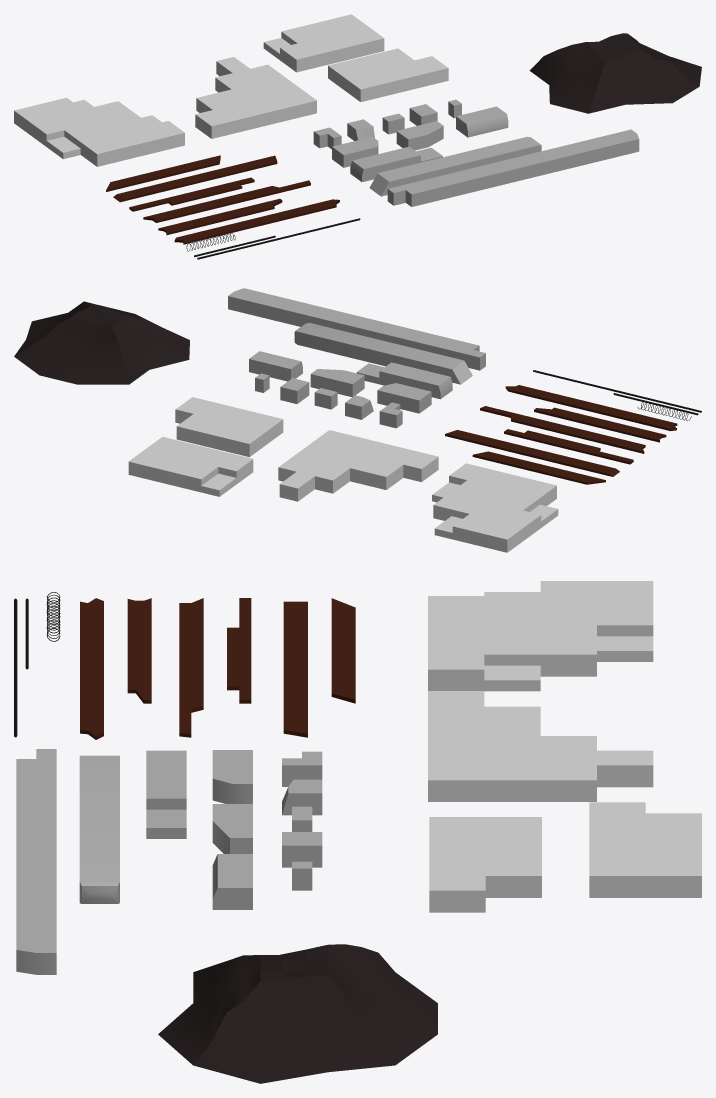
File: Rubble.fbx
3 renders of one model, top to bottom at view 1: azimuth 30°, elevation 25°; view 2: azimuth 150°, elevation 25°; view 3: azimuth 270°, elevation 25°, orthographic. The views are drawn at different scales.
Visible parts, largest first — view 1: Debris_pile, Techo_03, Techo_01, Techo_02, Beam_long, Beam_medium, Beam_short, Long_wood_03, Long_wood_01, Long_wood_02, Bloque_med_03, Short_wood_01 (+8 smaller); view 2: Debris_pile, Techo_03, Techo_01, Techo_02, Beam_long, Beam_medium, Beam_short, Long_wood_03, Long_wood_01, Long_wood_02, Short_wood_01, Short_wood_03 (+9 smaller); view 3: Debris_pile, Techo_01, Techo_03, Techo_02, Beam_long, Beam_medium, Beam_short, Long_wood_03, Long_wood_01, Long_wood_02, Short_wood_01, Short_wood_03 (+7 smaller).
Boxes of the visible parts, box(x1,y1,x2,y2) form: Debris_pile: box(529, 33, 701, 113); Techo_03: box(263, 14, 448, 101); Techo_01: box(14, 97, 184, 166); Techo_02: box(195, 57, 316, 138); Beam_long: box(387, 129, 639, 206); Beam_medium: box(369, 136, 541, 196); Beam_short: box(350, 146, 442, 182); Long_wood_03: box(113, 155, 277, 202); Long_wood_01: box(174, 199, 339, 244); Long_wood_02: box(143, 180, 310, 222); Bloque_med_03: box(456, 106, 508, 137); Short_wood_01: box(158, 198, 282, 235); Debris_pile: box(14, 301, 189, 384); Techo_03: box(128, 397, 283, 496); Techo_01: box(432, 463, 558, 552); Techo_02: box(278, 430, 438, 501); Beam_long: box(228, 288, 485, 370); Beam_medium: box(294, 322, 472, 384); Beam_short: box(356, 362, 452, 399); Long_wood_03: box(445, 430, 619, 476); Long_wood_01: box(505, 385, 677, 431); Long_wood_02: box(480, 406, 645, 453); Short_wood_01: box(534, 407, 666, 442); Short_wood_03: box(472, 451, 605, 484); Debris_pile: box(158, 944, 437, 1083); Techo_01: box(428, 581, 653, 691); Techo_03: box(429, 802, 701, 912); Techo_02: box(428, 691, 653, 801); Beam_long: box(16, 749, 56, 974); Beam_medium: box(79, 755, 119, 903); Beam_short: box(146, 750, 186, 838); Long_wood_03: box(283, 601, 307, 737); Long_wood_01: box(80, 598, 103, 739); Long_wood_02: box(179, 598, 203, 737); Short_wood_01: box(127, 598, 151, 703); Short_wood_03: box(331, 598, 355, 703).
Bounding box in the file's own units: 279 × 15.9 × 168.
